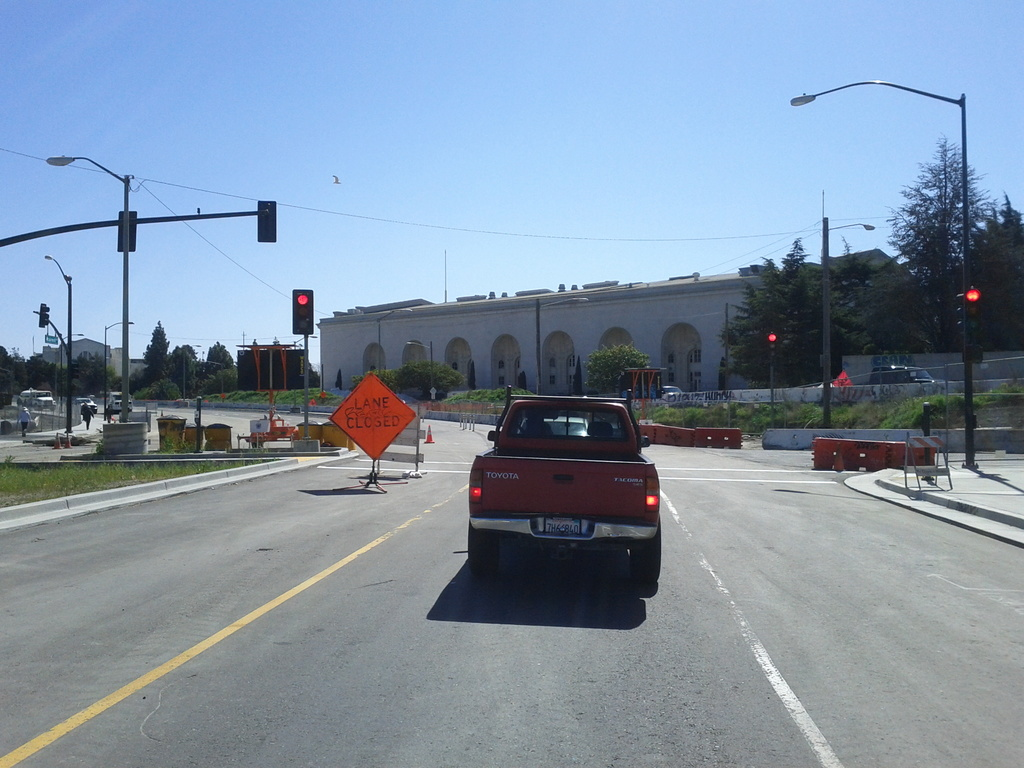mobil: (465, 382, 663, 593)
